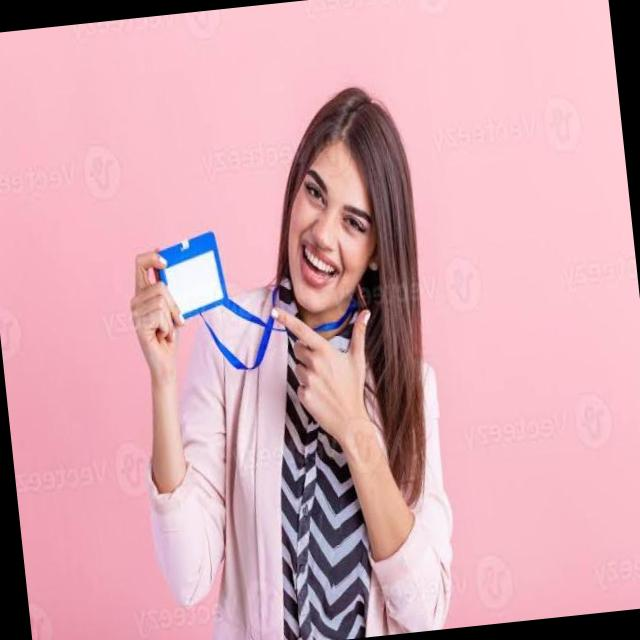id_card: (127, 220, 360, 386)
